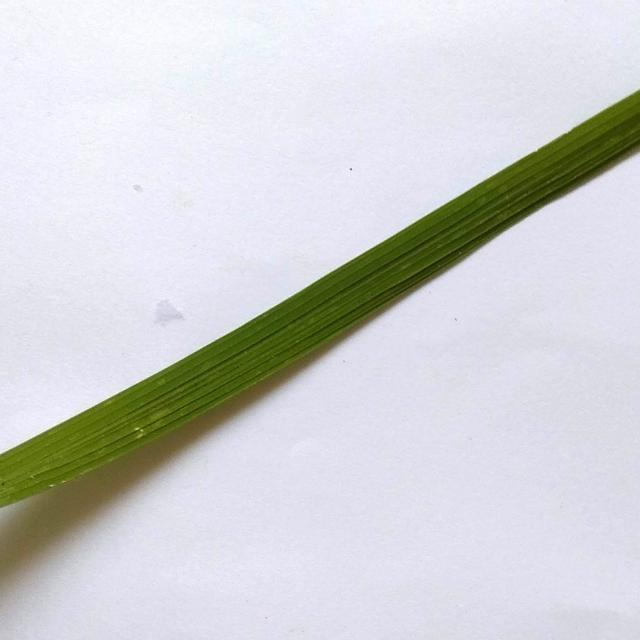Rice_Healthy: (0, 90, 640, 507)
